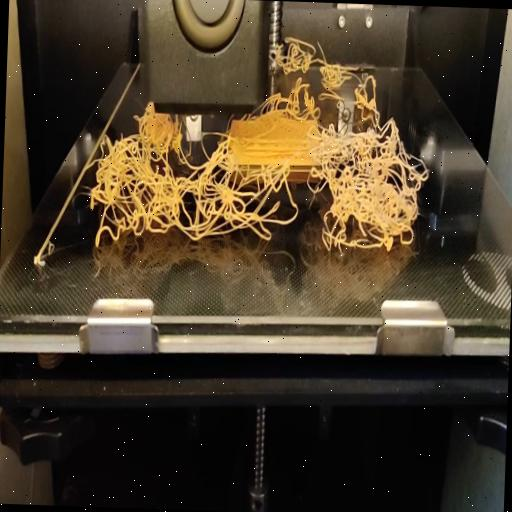spaghetti: (84, 100, 428, 254), (267, 26, 386, 120)
